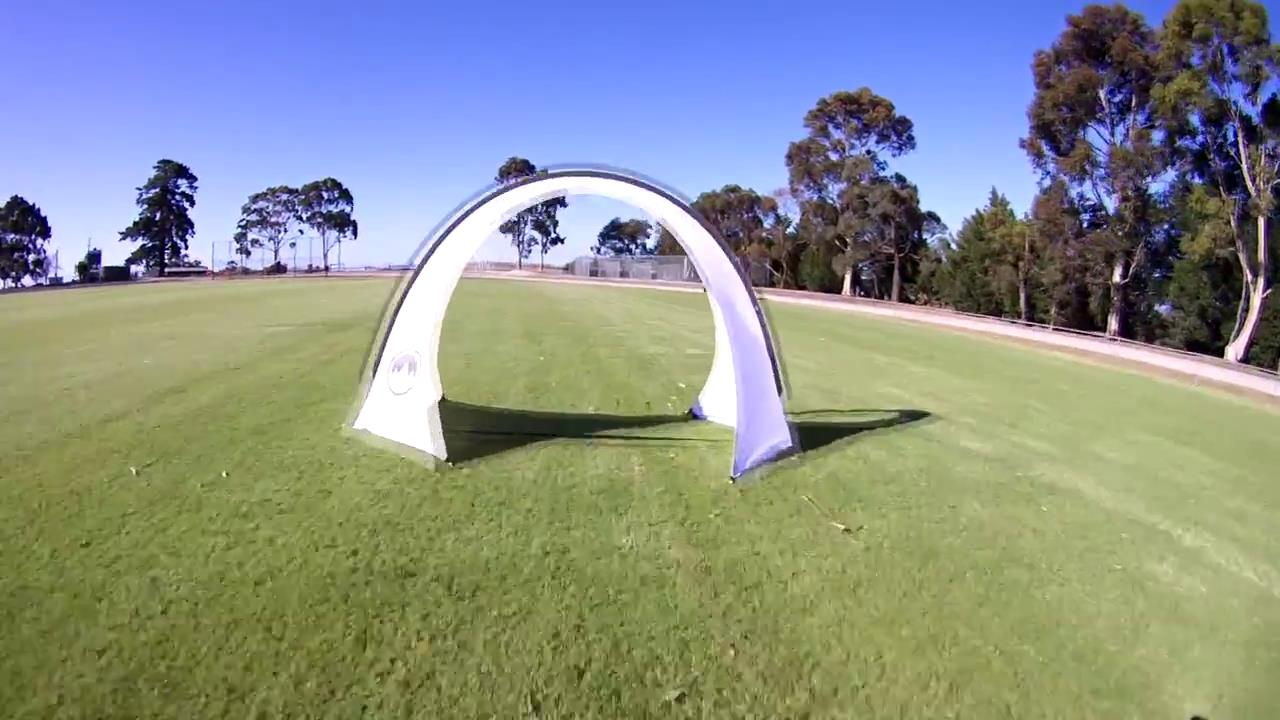gate: (342, 165, 804, 484)
